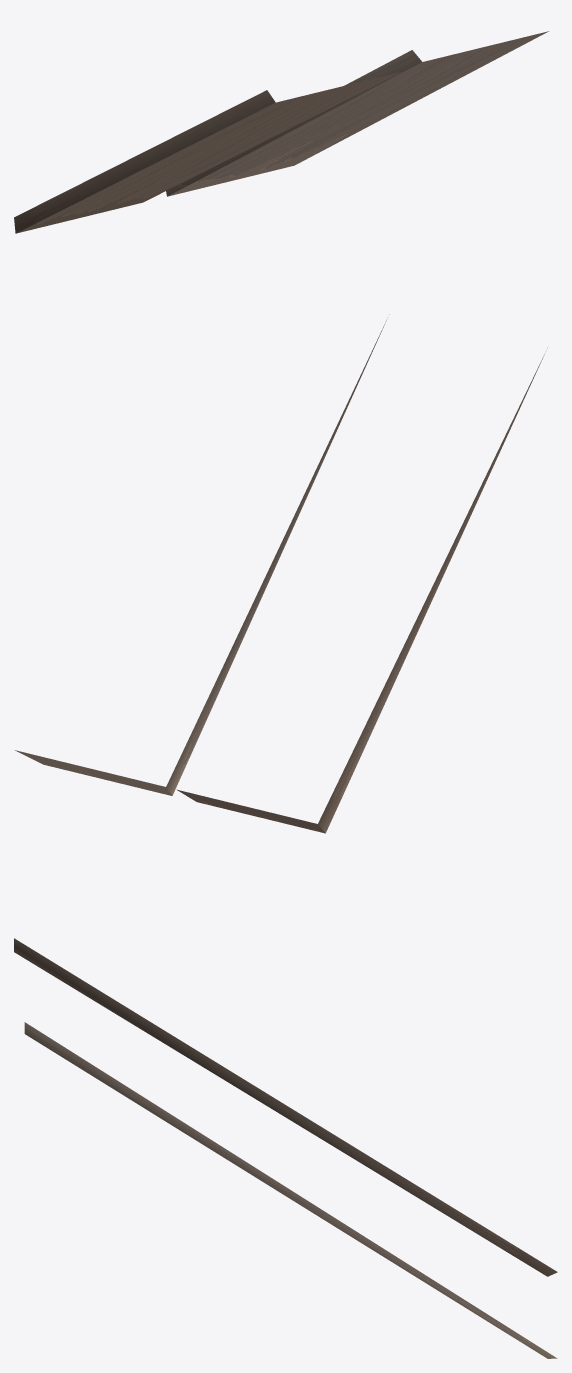
File: kd_stage_135ded_4_52.glb
3 views of the same model, one above another, from view 1: azimuth 30°, elevation 25°; view 2: azimuth 150°, elevation 25°; view 3: azimuth 270°, elevation 25° (orthographic). The views are drawn at different scales.
Visible parts, largest first — view 1: kd_stage_135ded_4_52; view 2: kd_stage_135ded_4_52; view 3: kd_stage_135ded_4_52.
Boxes of the visible parts, bbox=[...] form: kd_stage_135ded_4_52: bbox=[14, 31, 549, 233]; kd_stage_135ded_4_52: bbox=[14, 314, 547, 833]; kd_stage_135ded_4_52: bbox=[14, 938, 557, 1358].
Bounding box in the file's own units: 0.481 × 0.4756 × 0.6666.
Materials: 1 (1 with a texture image).
